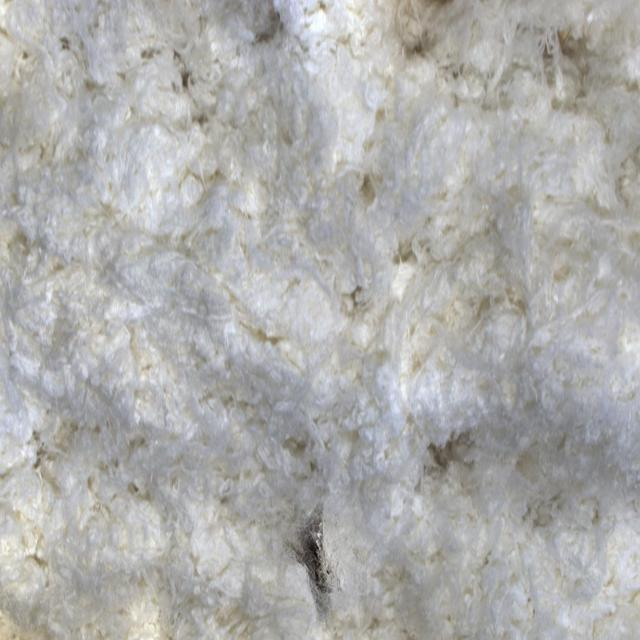dust: (245, 482, 382, 640)
